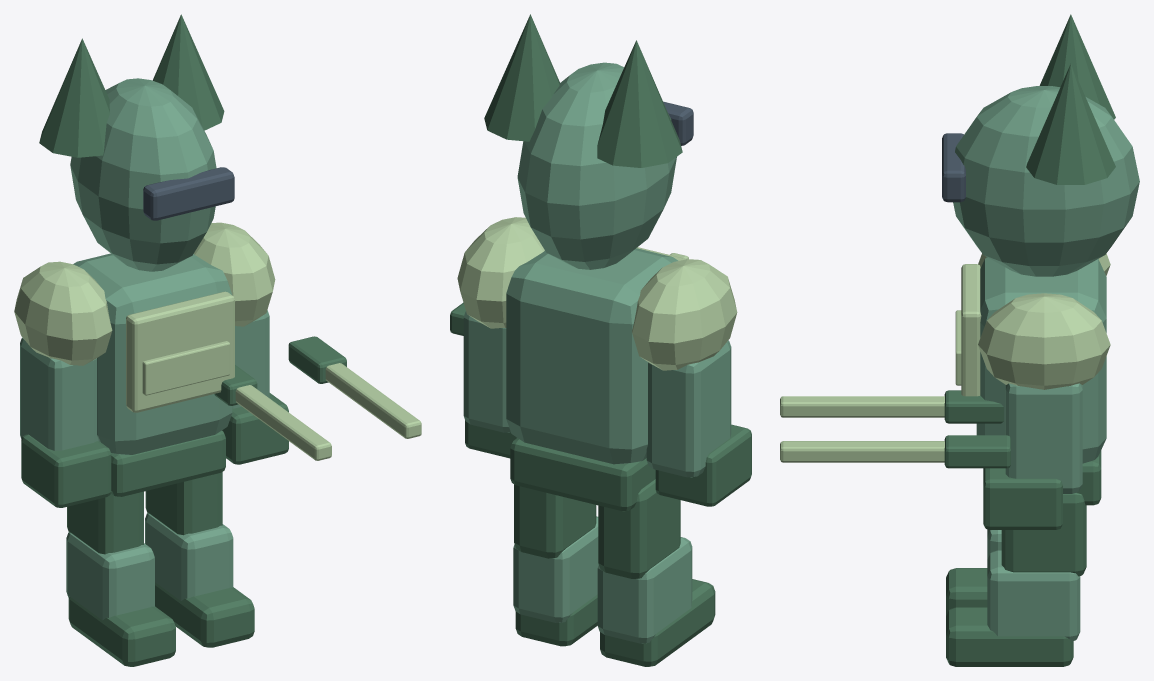
Rendered from enemy_scout.glb.
3 renders of one model, left to right at view 1: azimuth 30°, elevation 25°; view 2: azimuth 150°, elevation 25°; view 3: azimuth 270°, elevation 25°, orthographic. The views are drawn at different scales.
Visible parts, largest first — view 1: Helm, Chest, Shoulder, Breastplate, Arm, Greave, Greave.001, ScoutHoodPoint, Gauntlet, Shoulder.001, Waist, Boot (+12 smaller); view 2: Chest, Helm, Shoulder, Arm, Greave, ScoutHoodPoint, Waist, Thigh, Greave.001, Shoulder.001, ScoutHoodPoint.001, Arm.001 (+6 smaller); view 3: Helm, Shoulder.001, Chest, Arm.001, Greave.001, ScoutHoodPoint.001, Boot.001, Thigh.001, Gauntlet.001, ScoutKnife, ScoutKnife.001, Breastplate (+6 smaller).
Part boxes in pixels (<box>): Helm: <box>70,78,216,271</box>; Chest: <box>73,253,232,454</box>; Shoulder: <box>14,261,112,365</box>; Breastplate: <box>126,291,234,412</box>; Arm: <box>20,337,98,450</box>; Greave: <box>66,532,154,620</box>; Greave.001: <box>145,513,233,600</box>; ScoutHoodPoint: <box>39,38,109,157</box>; Gauntlet: <box>21,434,111,507</box>; Shoulder.001: <box>193,222,275,326</box>; Waist: <box>111,430,225,496</box>; Boot: <box>68,597,175,666</box>; Chest: <box>506,248,678,464</box>; Helm: <box>517,62,676,269</box>; Shoulder: <box>632,259,737,370</box>; Arm: <box>646,340,731,477</box>; Greave: <box>597,537,692,643</box>; ScoutHoodPoint: <box>597,40,682,167</box>; Waist: <box>510,438,655,511</box>; Thigh: <box>598,479,680,578</box>; Greave.001: <box>513,516,598,622</box>; Shoulder.001: <box>457,217,544,328</box>; ScoutHoodPoint.001: <box>484,14,559,141</box>; Arm.001: <box>463,311,510,432</box>; Helm: <box>953,86,1139,276</box>; Shoulder.001: <box>978,293,1110,389</box>; Chest: <box>976,257,1106,463</box>; Arm.001: <box>1005,383,1082,493</box>; Greave.001: <box>987,550,1080,641</box>; ScoutHoodPoint.001: <box>1026,63,1115,184</box>; Boot.001: <box>946,607,1073,666</box>; Thigh.001: <box>1001,493,1086,576</box>; Gauntlet.001: <box>983,468,1062,529</box>; ScoutKnife: <box>780,396,944,417</box>; ScoutKnife.001: <box>780,441,944,462</box>; Breastplate: <box>961,264,981,396</box>.
Bounding box in the file's own units: 1.22 × 2.49 × 1.35.
